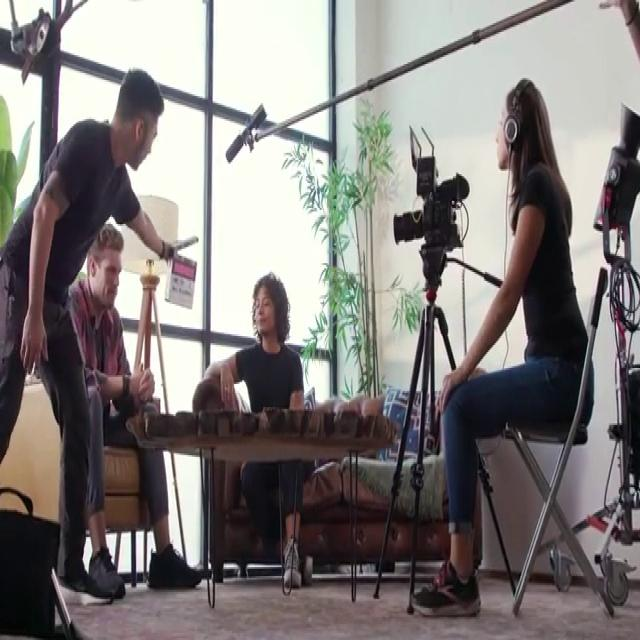Clapperboard: (165, 236, 198, 309)
